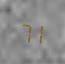one: (32, 20, 44, 44)
seven: (19, 18, 31, 43)
